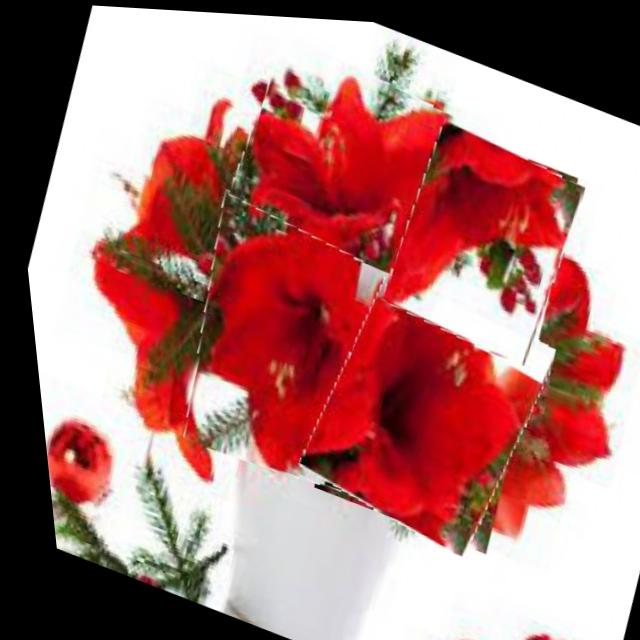Flower: (140, 174, 448, 510), (272, 243, 567, 562), (211, 26, 469, 278), (361, 109, 597, 367)
